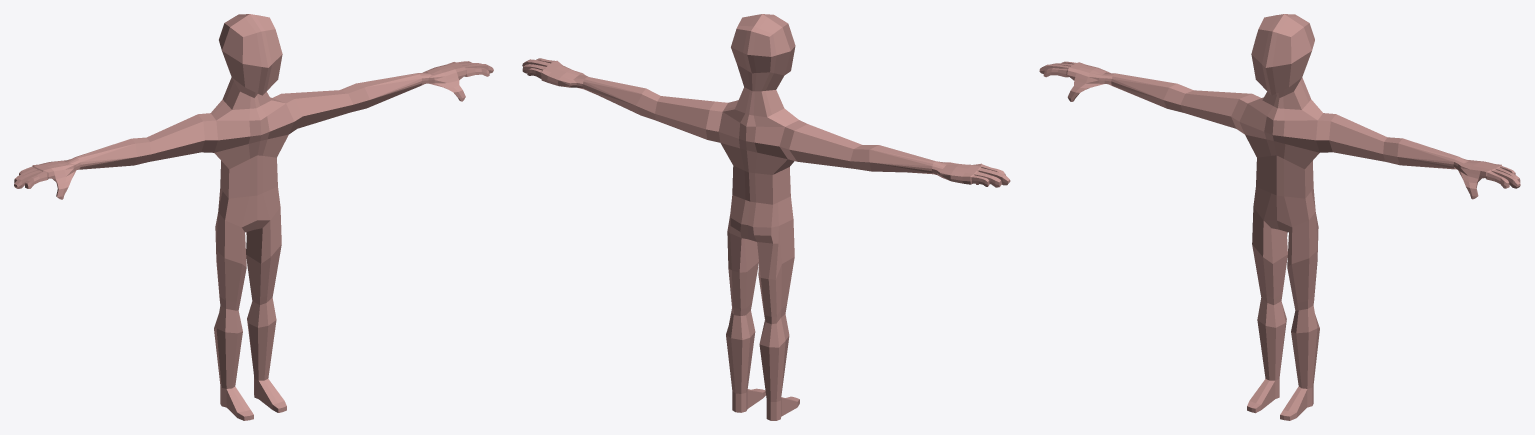
The model's file is character.glb.
3 views of the same model, side by side, from view 1: azimuth 30°, elevation 25°; view 2: azimuth 150°, elevation 25°; view 3: azimuth 330°, elevation 25° (orthographic).
Visible parts, largest first — view 1: Cube; view 2: Cube; view 3: Cube.
Boxes of the visible parts, box(x1,y1,x2,y2) form: Cube: box(14, 14, 493, 420); Cube: box(522, 14, 1010, 420); Cube: box(1039, 14, 1520, 420).
Bounding box in the file's own units: 29.8 × 23.25 × 3.74.
